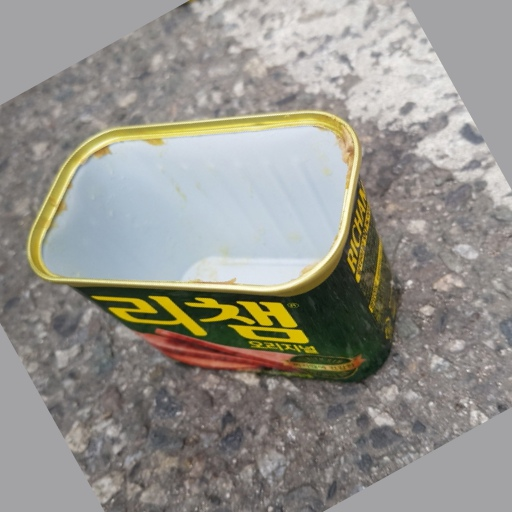Metal_2: (29, 112, 407, 384)
